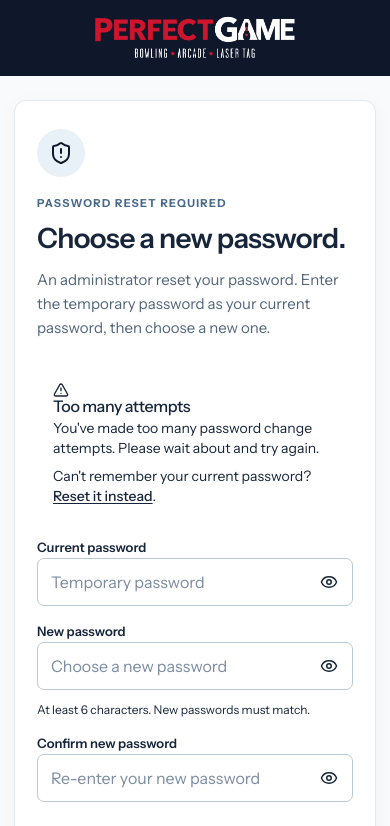
ChangePasswordRequiredPage (task #455) › lets the bowler reveal and hide a password without clearing it
The width and height of the screenshot is (390, 826).
Type "AdminSetPw1!" into the password field labelled "Current password". click: coordinates (195, 582)
box: [37,558,353,606]
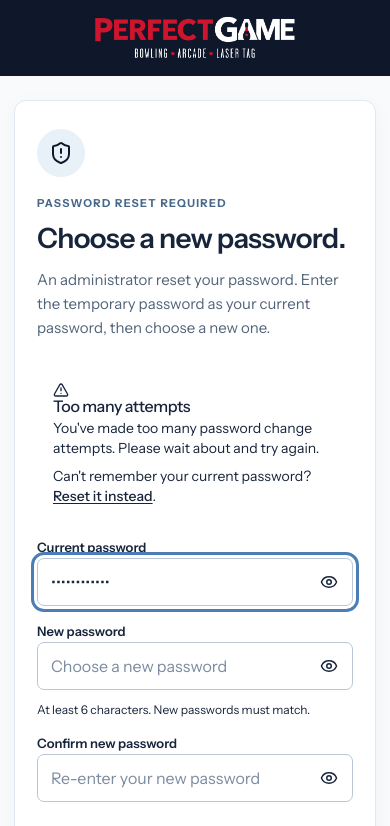
Click the button named "Show current password". click: coordinates (329, 582)
box: [305,558,353,606]
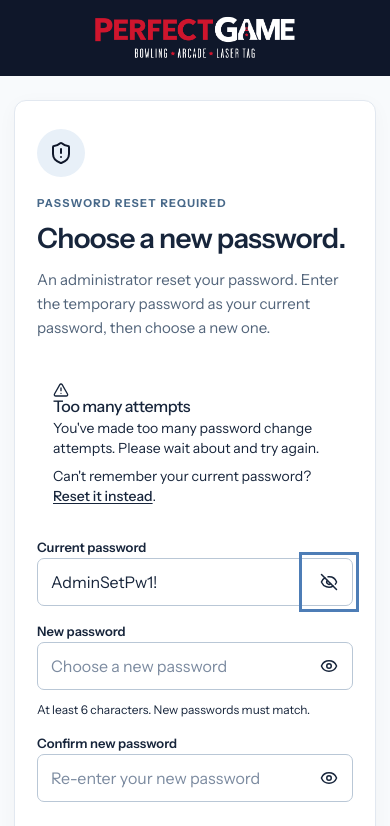
Expected: the field labelled "Current password" shows its text, [37,558,353,606]
Click the button named "Hide current password". click: coordinates (329, 582)
box: [305,558,353,606]
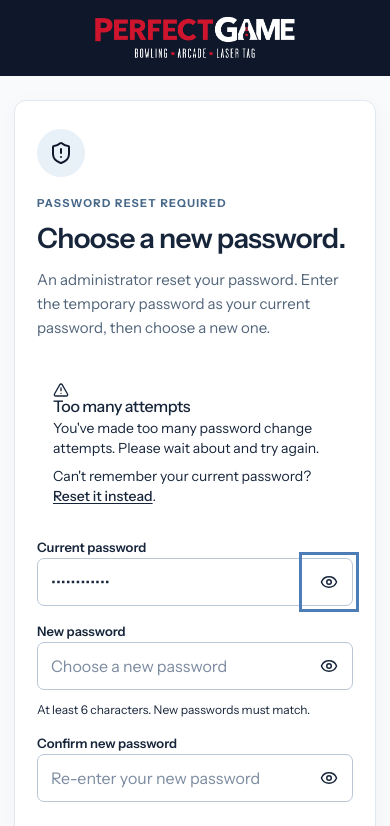
Expected: the password field labelled "Current password" hides its text, [37,558,353,606]
